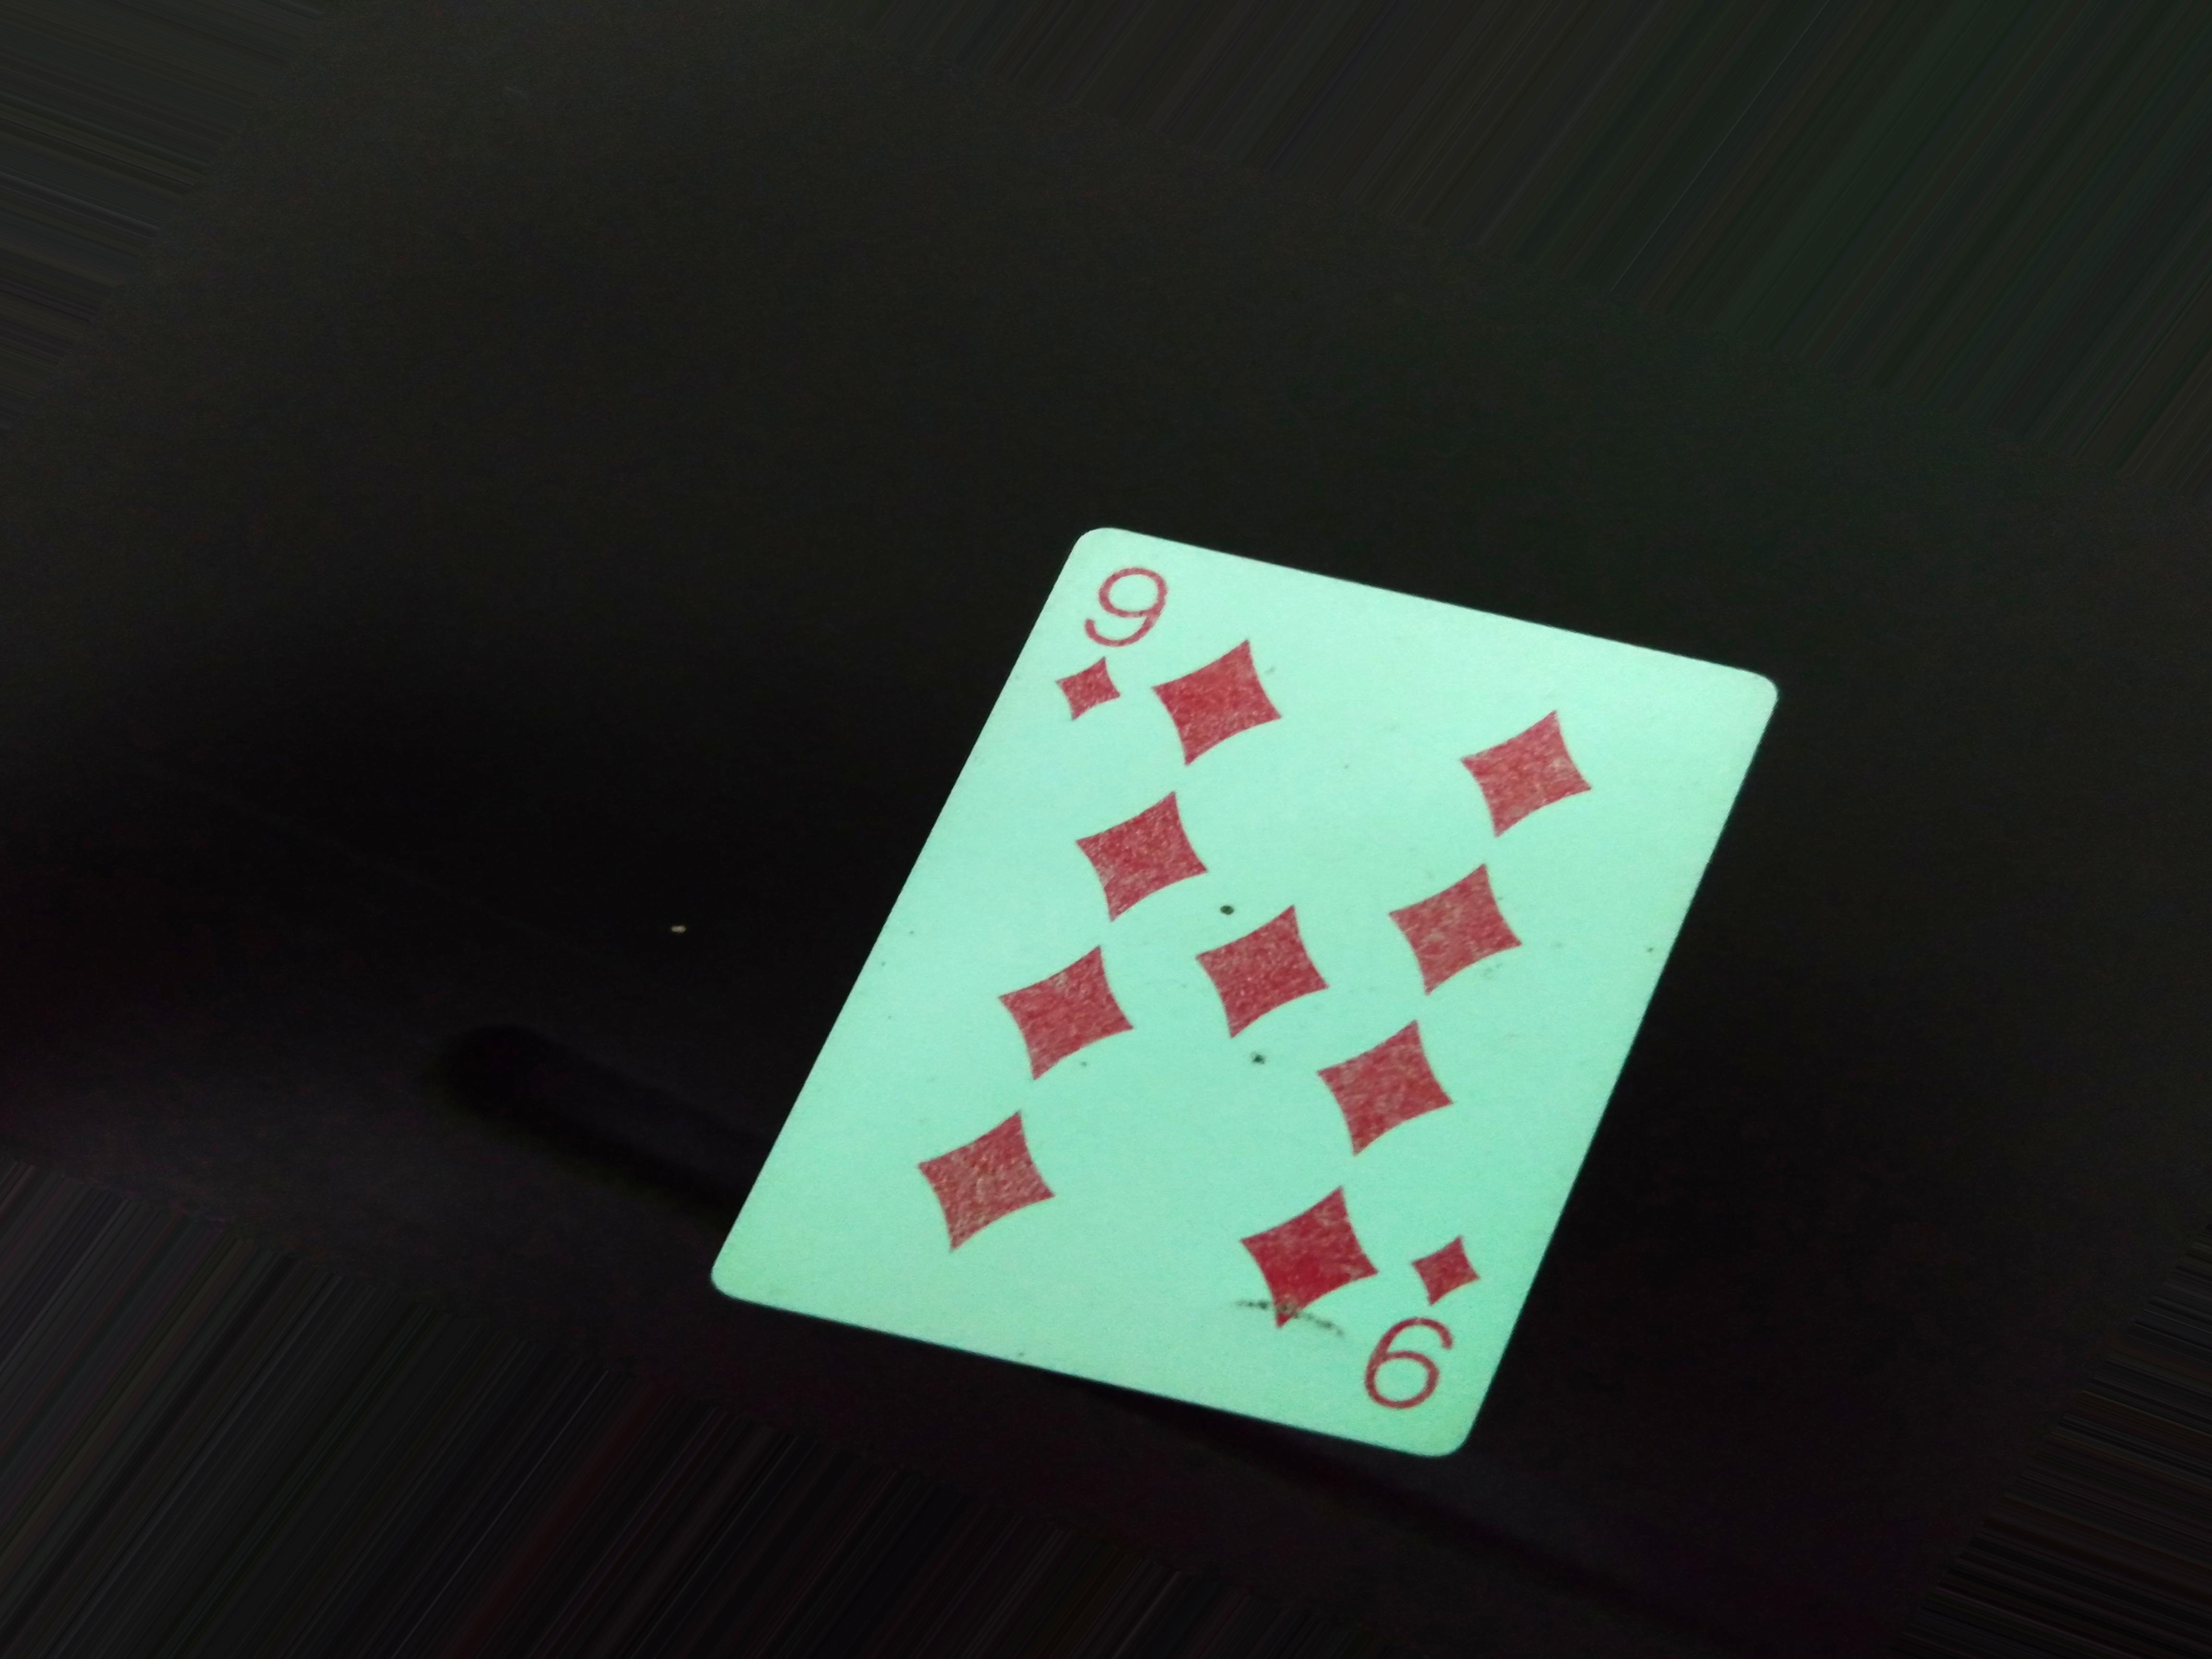9D: (1052, 551, 1172, 735)
